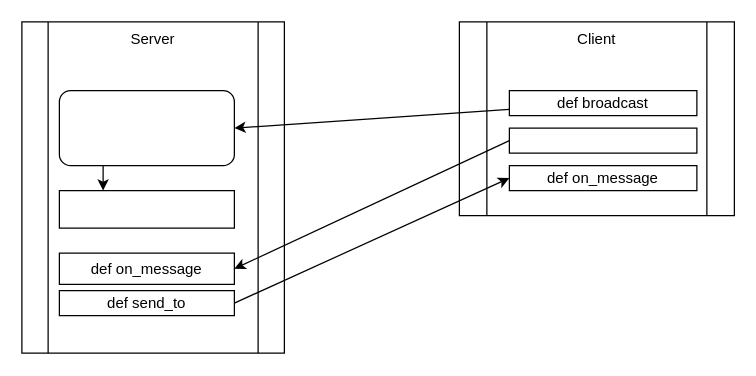
Some shapes in this 756 by 376 pixel diagram are drawn without their labels. The shapes that lost their labels are listed below. From the top down, each one's centre as x and y in pixels, then its label:
the point at 146,127: Listener (threading.Thread)
the point at 602,140: def send
the point at 146,208: def on_listener_message
